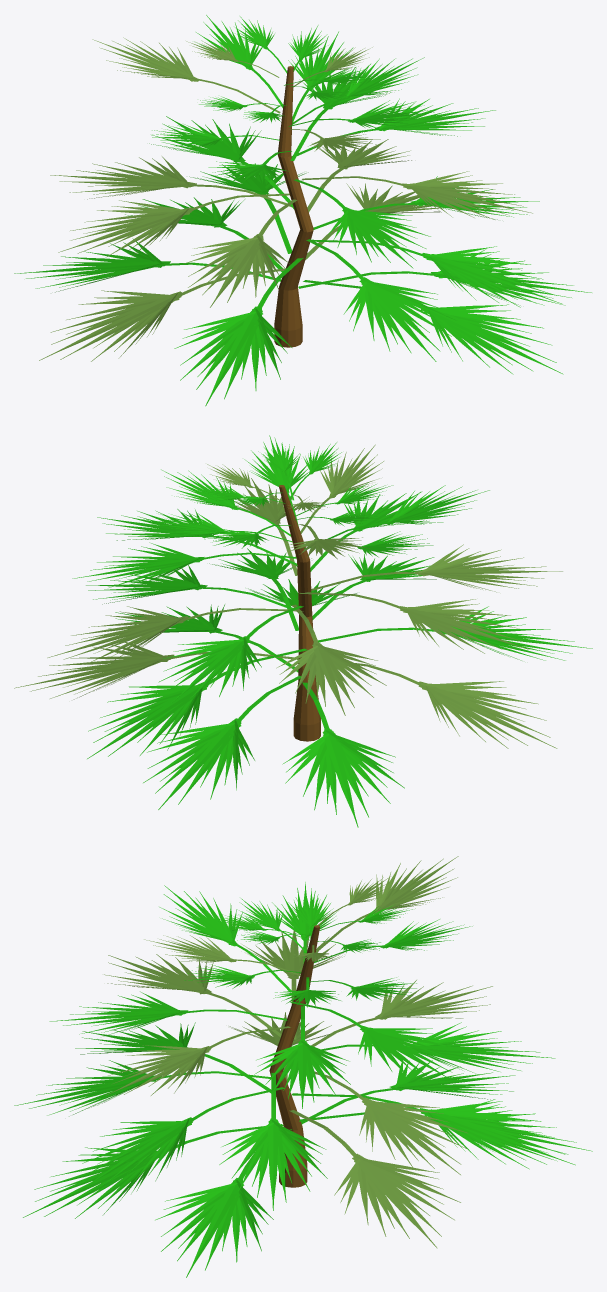
File: buisson2.fbx
3 views of the same model, one above another, from view 1: azimuth 30°, elevation 25°; view 2: azimuth 150°, elevation 25°; view 3: azimuth 270°, elevation 25° (orthographic). The views are drawn at different scales.
Visible parts, largest first — view 1: buisson 2; view 2: buisson 2; view 3: buisson 2.
Part boxes in pixels (x1,y1,x2,y2): buisson 2: (14, 15, 591, 406); buisson 2: (14, 435, 592, 827); buisson 2: (14, 856, 592, 1277).
Bounding box in the file's own units: 238 × 125 × 236.
